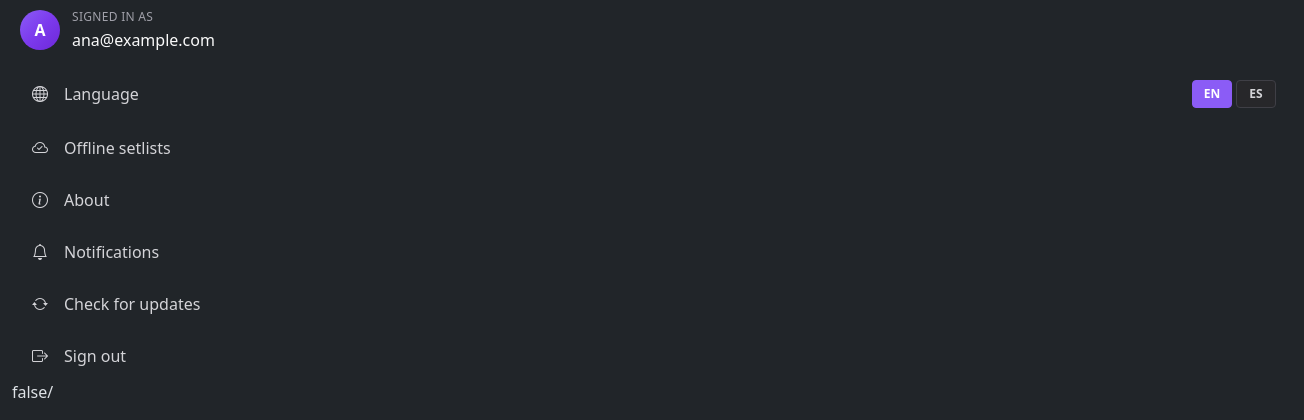
Test case: AuthButton notifications (band push notifications §2.1) › with the flag on, lists Notifications before Check for updates and opens the settings
Click the button "Notifications" at [112, 252], box [12, 228, 1292, 276]
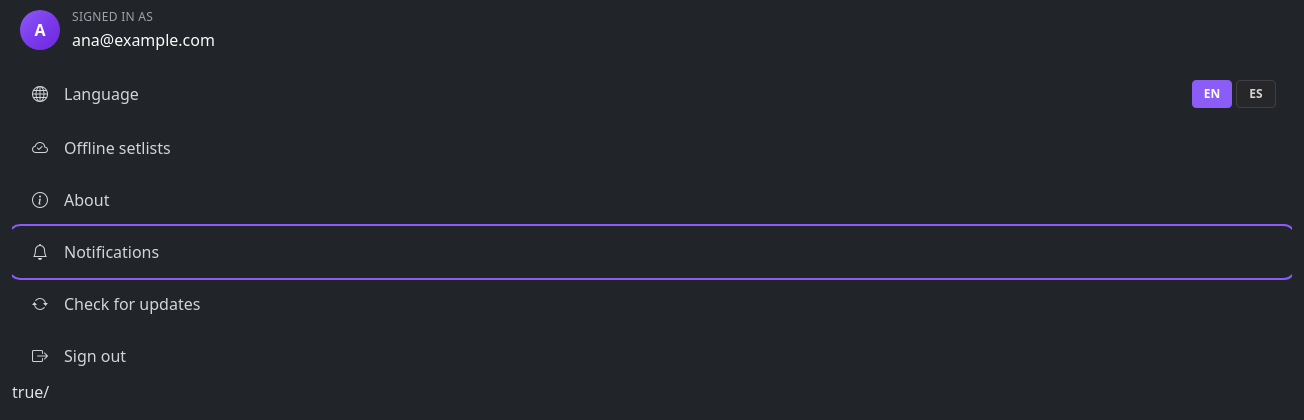
Now the text with test id "settings-open" reads "true", box [12, 381, 43, 403]
